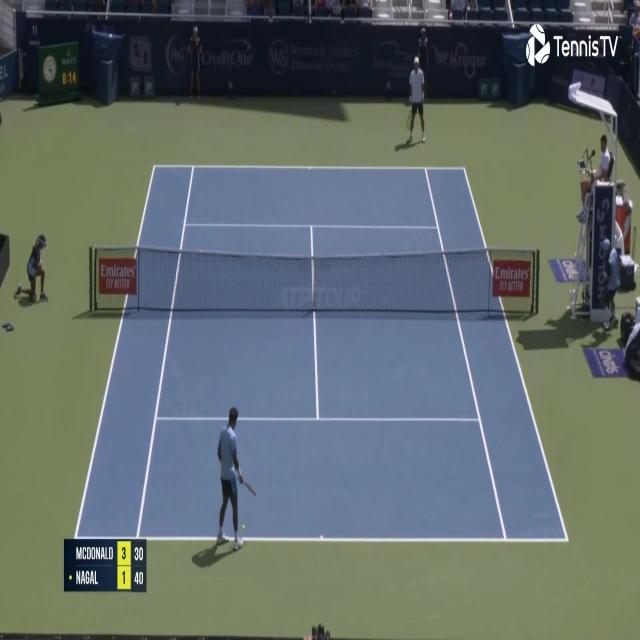tennis-player: (211, 403, 258, 557), (404, 54, 428, 147)
